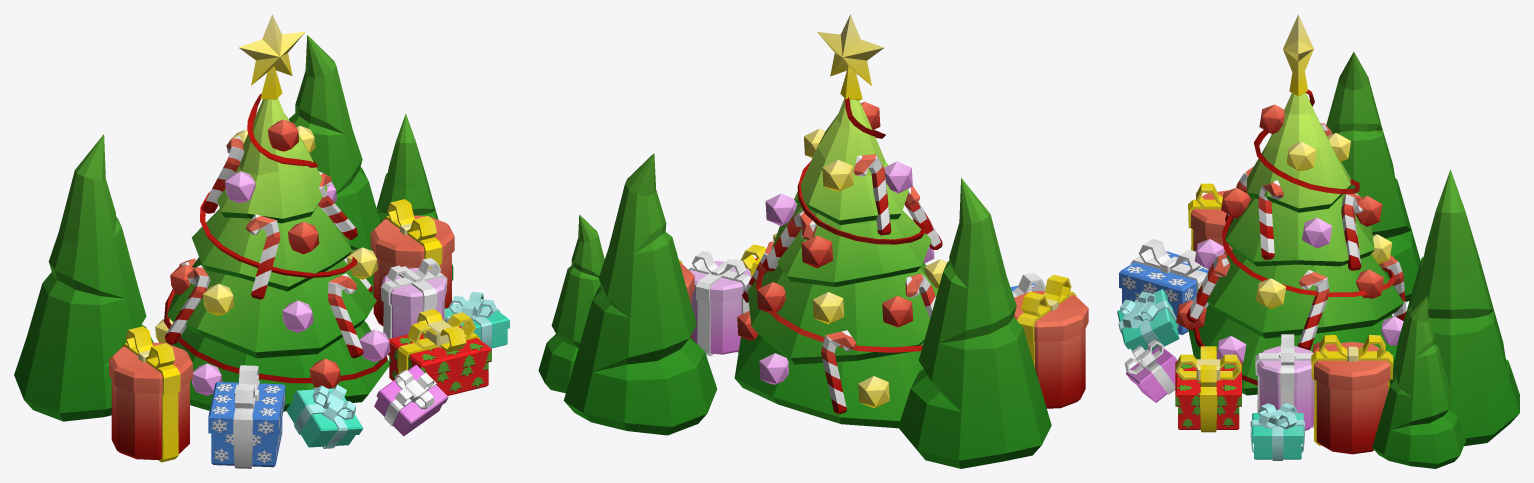
Rendered from christmas_tree.glb.
The picture shows the model from 3 angles, left to right: view 1: azimuth 30°, elevation 25°; view 2: azimuth 150°, elevation 25°; view 3: azimuth 270°, elevation 25°; orthographic projection. The views are drawn at different scales.
Visible parts, largest first — view 1: Christmas_Tree_Christmas_Tree_0, Christmas_Tree_060_Christmas_Tree_0, Christmas_Present_01_Christmas_Tree_0, Christmas_Tree_2_Christmas_Tree_0, Christmas_Present_009_Christmas_Tree_0, Christmas_Present_04_Christmas_Tree_0, Christmas_Present_008_Christmas_Tree_0, Christmas_Present_02_Christmas_Tree_0, Christmas_Present_07_Christmas_Tree_0, Christmas_Tree_059_Christmas_Tree_0, Christmas_Present_05_Christmas_Tree_0, Christmas_Present_06_Christmas_Tree_0 (+14 smaller); view 2: Christmas_Tree_Christmas_Tree_0, Christmas_Tree_060_Christmas_Tree_0, Christmas_Tree_2_Christmas_Tree_0, Christmas_Present_01_Christmas_Tree_0, Christmas_Tree_059_Christmas_Tree_0, Christmas_Present_02_Christmas_Tree_0, Christmas_Tree_Candy007_Christmas_Tree_0, Christmas_Tree_Candy004_Christmas_Tree_0, Christmas_Tree_Candy005_Christmas_Tree_0, Christmas_Tree_Ball_005_Christmas_Tree_0, Christmas_Tree_051_Christmas_Tree_0, Christmas_Tree_Ball_004_Christmas_Tree_0 (+8 smaller); view 3: Christmas_Tree_Christmas_Tree_0, Christmas_Tree_2_Christmas_Tree_0, Christmas_Tree_059_Christmas_Tree_0, Christmas_Tree_060_Christmas_Tree_0, Christmas_Present_008_Christmas_Tree_0, Christmas_Present_04_Christmas_Tree_0, Christmas_Present_009_Christmas_Tree_0, Christmas_Present_02_Christmas_Tree_0, Christmas_Present_07_Christmas_Tree_0, Christmas_Present_06_Christmas_Tree_0, Christmas_Present_05_Christmas_Tree_0, Christmas_Present_01_Christmas_Tree_0 (+18 smaller).
Boxes of the visible parts, x1,y1,x2,y2 form: Christmas_Tree_Christmas_Tree_0: (164,14,389,411); Christmas_Tree_060_Christmas_Tree_0: (14,134,153,421); Christmas_Present_01_Christmas_Tree_0: (109,326,192,462); Christmas_Tree_2_Christmas_Tree_0: (289,35,380,295); Christmas_Present_009_Christmas_Tree_0: (208,365,285,468); Christmas_Present_04_Christmas_Tree_0: (388,309,491,395); Christmas_Present_008_Christmas_Tree_0: (370,199,454,325); Christmas_Present_02_Christmas_Tree_0: (381,258,447,355); Christmas_Present_07_Christmas_Tree_0: (286,384,363,448); Christmas_Tree_059_Christmas_Tree_0: (376,113,453,280); Christmas_Present_05_Christmas_Tree_0: (374,364,448,436); Christmas_Present_06_Christmas_Tree_0: (444,292,509,348); Christmas_Tree_Christmas_Tree_0: (734,14,937,428); Christmas_Tree_060_Christmas_Tree_0: (898,178,1051,468); Christmas_Tree_2_Christmas_Tree_0: (564,153,717,435); Christmas_Present_01_Christmas_Tree_0: (1014,274,1088,408); Christmas_Tree_059_Christmas_Tree_0: (538,214,604,393); Christmas_Present_02_Christmas_Tree_0: (688,251,751,355); Christmas_Tree_Candy007_Christmas_Tree_0: (821,330,856,413); Christmas_Tree_Candy004_Christmas_Tree_0: (853,154,891,235); Christmas_Tree_Candy005_Christmas_Tree_0: (762,210,816,271); Christmas_Tree_Ball_005_Christmas_Tree_0: (812,292,844,324); Christmas_Tree_051_Christmas_Tree_0: (801,235,832,268); Christmas_Tree_Ball_004_Christmas_Tree_0: (858,376,889,408); Christmas_Tree_Christmas_Tree_0: (1188,14,1403,395); Christmas_Tree_2_Christmas_Tree_0: (1389,169,1519,446); Christmas_Tree_059_Christmas_Tree_0: (1372,296,1465,468); Christmas_Tree_060_Christmas_Tree_0: (1326,52,1420,301); Christmas_Present_008_Christmas_Tree_0: (1311,335,1393,454); Christmas_Present_04_Christmas_Tree_0: (1175,346,1241,432); Christmas_Present_009_Christmas_Tree_0: (1119,239,1209,334); Christmas_Present_02_Christmas_Tree_0: (1255,334,1314,430); Christmas_Present_07_Christmas_Tree_0: (1117,289,1179,351); Christmas_Present_06_Christmas_Tree_0: (1250,403,1304,460); Christmas_Present_05_Christmas_Tree_0: (1124,340,1177,402); Christmas_Present_01_Christmas_Tree_0: (1188,183,1232,255).
Bounding box in the file's own units: 466 × 364 × 373.
2 materials, 1 textured.
